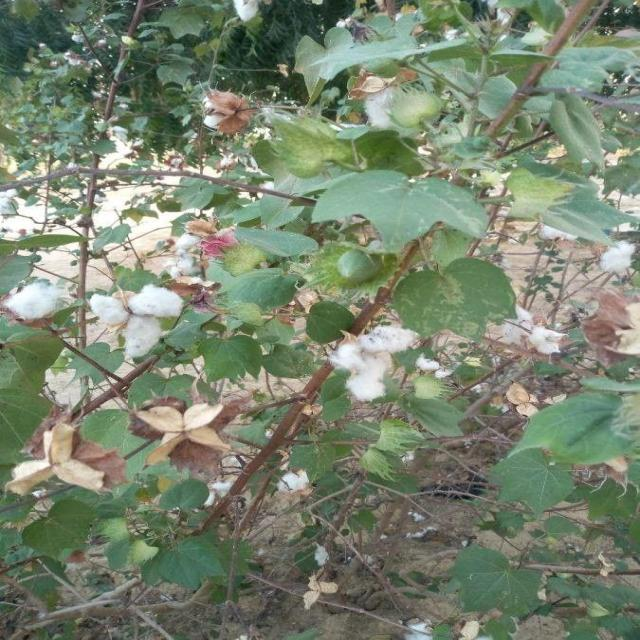Early_blight: (329, 326, 420, 404), (91, 284, 185, 356), (364, 85, 425, 133), (198, 87, 251, 137), (4, 283, 59, 320), (173, 228, 204, 271), (601, 241, 634, 277), (528, 328, 566, 356), (280, 472, 310, 492)
